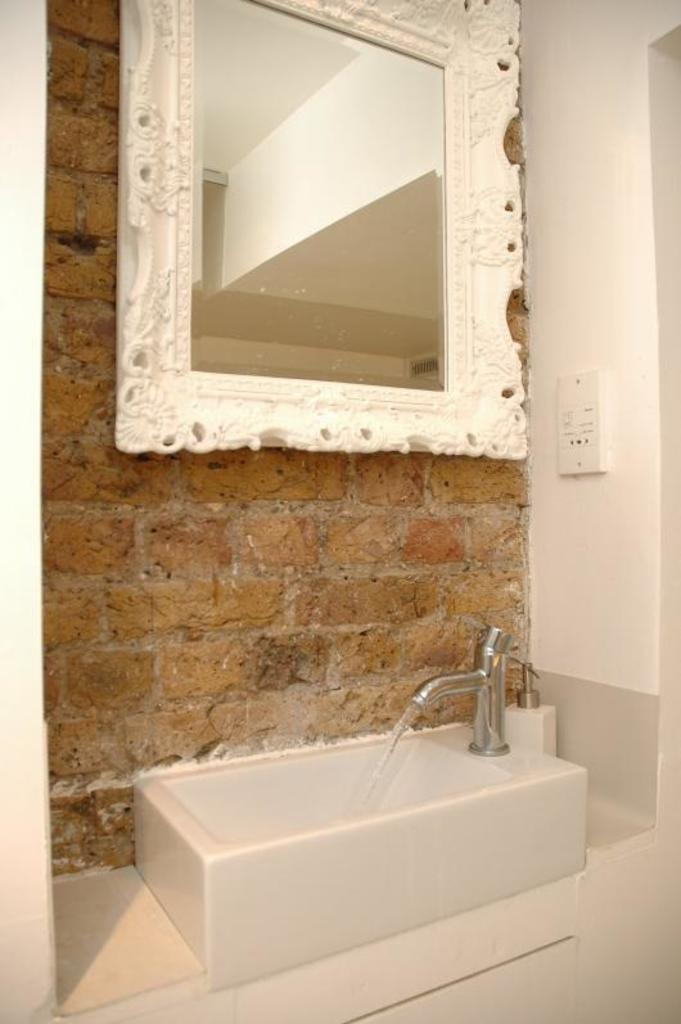tap: (412, 616, 513, 754)
